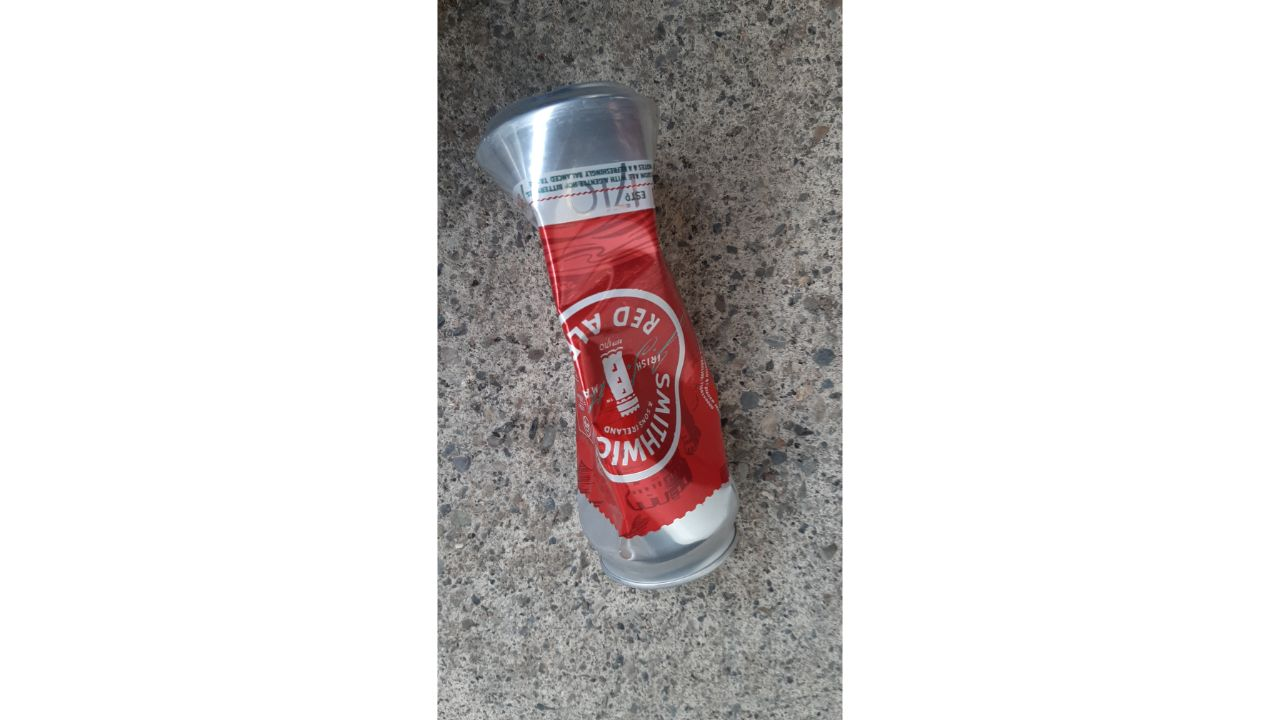Can: (473, 78, 739, 588)
